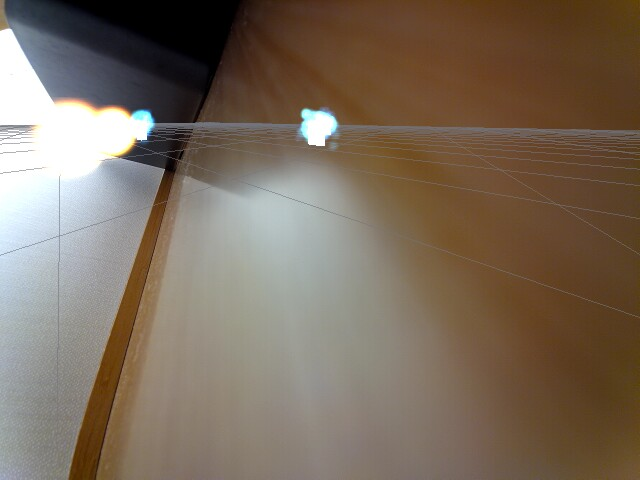fire: (30, 97, 99, 179), (95, 102, 136, 156)
